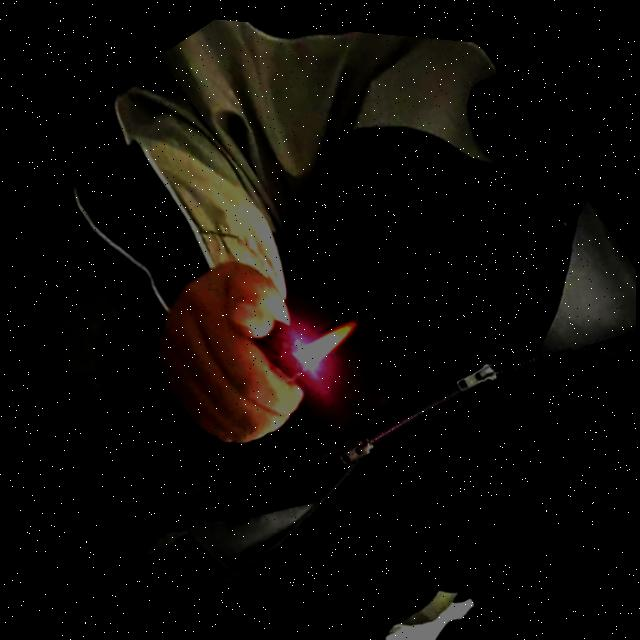Fire: (296, 300, 372, 370)
